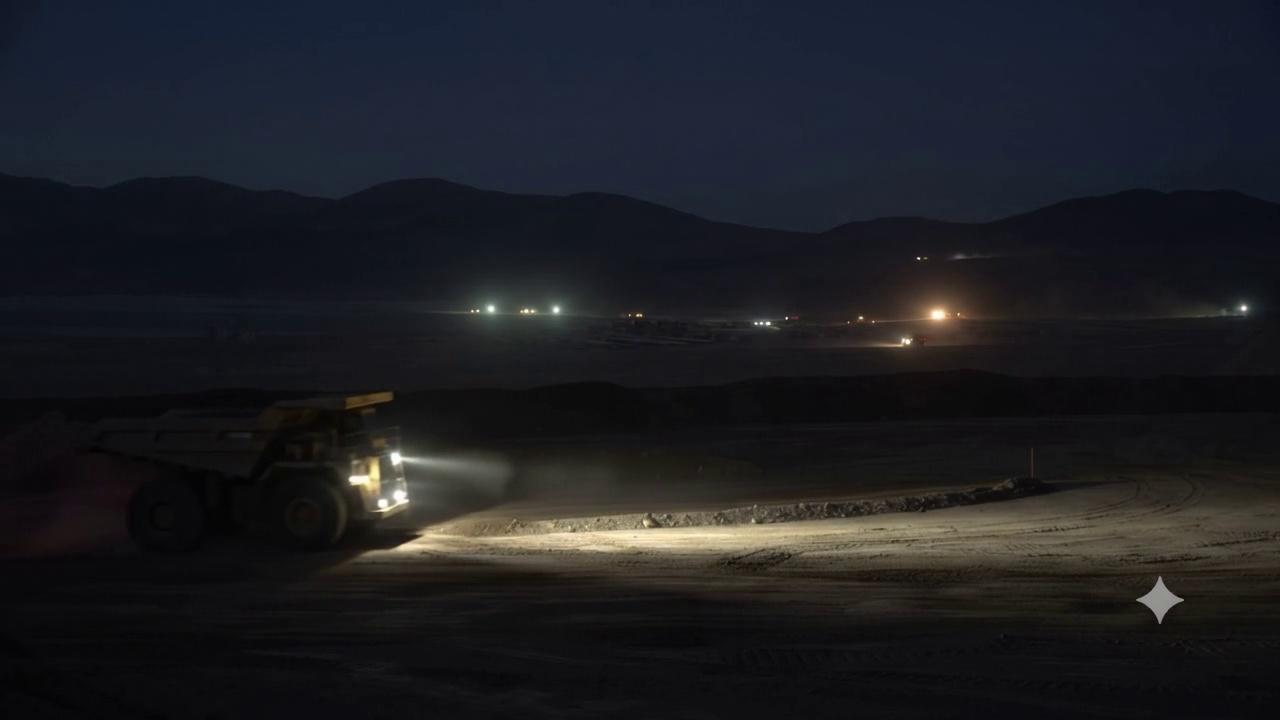CAEX: (84, 390, 411, 554)
